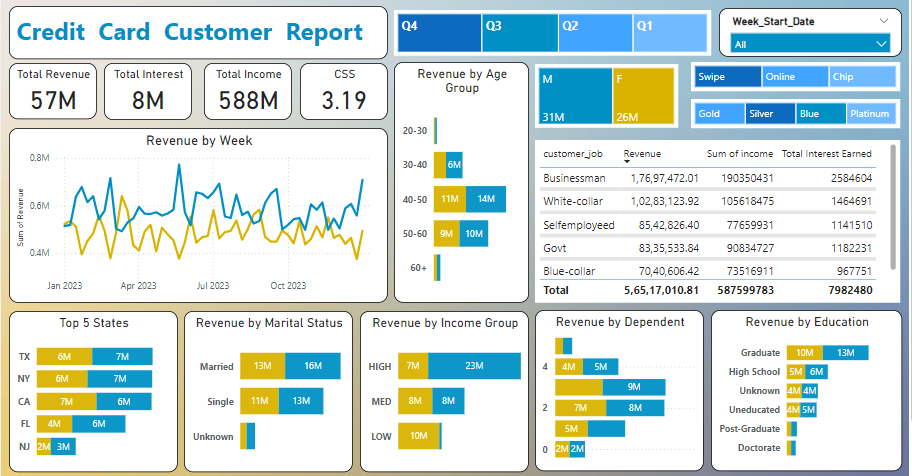

What the dashboard file says about the page in this screenshot:
{"tool":"powerbi","page":{"name":"CC Customer","canvas":[1280,720],"ordinal":1},"visuals":[{"type":"textbox","box":[10.7,8,505.3,70.7],"z":0},{"type":"barChart","title":"Revenue by Income Group","fields":{"Y":["Sum(public cc_detail.Revenue)"],"Category":["public cust_detail.Income_Group"],"Series":["public cust_detail.gender"]},"box":[478.7,414.7,225.3,215],"z":1000},{"type":"tableEx","fields":{"Values":["public cust_detail.customer_job","Sum(public cc_detail.Revenue)","Sum(public cust_detail.income)","Sum(public cc_detail.interest_earned)"]},"box":[712,186.7,486.7,217.3],"z":2000},{"type":"card","title":"Total Revenue","fields":{"Values":["Sum(public cc_detail.Revenue)"]},"box":[10.4,84.4,117,75.3],"z":3000},{"type":"card","title":"Total Income","fields":{"Values":["Sum(public cust_detail.income)"]},"box":[270.7,84,117.3,76],"z":4000},{"type":"card","title":"CSS","fields":{"Values":["Avg(public cust_detail.cust_satisfaction_score)"]},"box":[398.7,84,117.3,76],"z":5000},{"type":"card","title":"Total Interest","fields":{"Values":["Sum(public cc_detail.interest_earned)"]},"box":[137.3,84,117.3,76],"z":6000},{"type":"slicer","fields":{"Values":["public cc_detail.week_start_date"]},"box":[957.3,10.7,244,65.3],"z":7000},{"type":"treemap","fields":{"Group":["public cc_detail.qtr"],"Values":["Avg(public cc_detail.client_num)"]},"box":[524,13.3,422.7,61.3],"z":8000},{"type":"treemap","fields":{"Group":["public cc_detail.card_category"],"Values":["Avg(public cc_detail.client_num)"]},"box":[920,132,278.7,38.7],"z":9000},{"type":"lineChart","title":"Revenue by Week","fields":{"Y":["Sum(public cc_detail.Revenue)"],"Series":["public cust_detail.gender"],"Category":["public cc_detail.week_start_date.Variation.Date Hierarchy.Year","public cc_detail.week_start_date.Variation.Date Hierarchy.Month","public cc_detail.week_start_date.Variation.Date Hierarchy.Day"]},"box":[10.7,170.7,505.3,233.3],"z":10000},{"type":"treemap","fields":{"Group":["public cust_detail.gender"],"Values":["Sum(public cc_detail.Revenue)"]},"box":[712,85.3,190.7,85.3],"z":11000},{"type":"barChart","title":"Revenue by Age Group","fields":{"Y":["Sum(public cc_detail.Revenue)"],"Category":["public cust_detail.AgeGroup"],"Series":["public cust_detail.gender"]},"box":[524,82.7,180,321.3],"z":12000},{"type":"barChart","title":"Revenue by Dependent","fields":{"Y":["Sum(public cc_detail.Revenue)"],"Category":["public cust_detail.dependent_count"],"Series":["public cust_detail.gender"]},"box":[712,413.3,225.3,214.7],"z":13000},{"type":"barChart","title":"Revenue by Education","fields":{"Y":["Sum(public cc_detail.Revenue)"],"Category":["public cust_detail.education_level"],"Series":["public cust_detail.gender"]},"box":[946.7,413.3,254.7,214.7],"z":14000},{"type":"barChart","title":"Top 5 States","fields":{"Y":["Sum(public cc_detail.Revenue)"],"Category":["public cust_detail.state_cd"],"Series":["public cust_detail.gender"]},"box":[10.7,414.7,225,215],"z":15000},{"type":"barChart","title":"Revenue by Marital Status","fields":{"Y":["Sum(public cc_detail.Revenue)"],"Category":["public cust_detail.marital_status"],"Series":["public cust_detail.gender"]},"box":[244,414.7,225.3,215],"z":16000},{"type":"treemap","fields":{"Group":["public cc_detail.use_chip"],"Values":["Avg(public cc_detail.client_num)"]},"box":[920,82.7,278.7,38.7],"z":17000}]}

Visuals, with their boxes on the page's 1280x720 design canvas (x1, y1, x2, y2). These are canvas units, not pixel positions in the 912x476 screenshot, which may show the page scaled, cropped or inside an application window:
textbox: x1=11, y1=8, x2=516, y2=79
"Revenue by Income Group" barChart: x1=479, y1=415, x2=704, y2=630
tableEx - public cust_detail.customer_job x Sum(public cc_detail.Revenue): x1=712, y1=187, x2=1199, y2=404
"Total Revenue" card: x1=10, y1=84, x2=127, y2=160
"Total Income" card: x1=271, y1=84, x2=388, y2=160
"CSS" card: x1=399, y1=84, x2=516, y2=160
"Total Interest" card: x1=137, y1=84, x2=255, y2=160
slicer - public cc_detail.week_start_date: x1=957, y1=11, x2=1201, y2=76
treemap - public cc_detail.qtr x Avg(public cc_detail.client_num): x1=524, y1=13, x2=947, y2=75
treemap - public cc_detail.card_category x Avg(public cc_detail.client_num): x1=920, y1=132, x2=1199, y2=171
"Revenue by Week" lineChart: x1=11, y1=171, x2=516, y2=404
treemap - public cust_detail.gender x Sum(public cc_detail.Revenue): x1=712, y1=85, x2=903, y2=171
"Revenue by Age Group" barChart: x1=524, y1=83, x2=704, y2=404
"Revenue by Dependent" barChart: x1=712, y1=413, x2=937, y2=628
"Revenue by Education" barChart: x1=947, y1=413, x2=1201, y2=628
"Top 5 States" barChart: x1=11, y1=415, x2=236, y2=630
"Revenue by Marital Status" barChart: x1=244, y1=415, x2=469, y2=630
treemap - public cc_detail.use_chip x Avg(public cc_detail.client_num): x1=920, y1=83, x2=1199, y2=121
